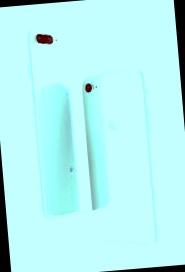iphone: (86, 71, 152, 249)
